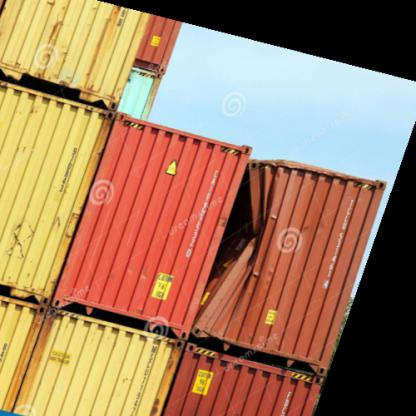Damage: (184, 151, 276, 338)
